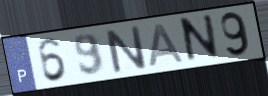6: (37, 36, 68, 85)
9: (219, 10, 252, 58), (72, 32, 106, 78)
A: (147, 22, 186, 69)
N: (102, 24, 150, 75), (180, 12, 222, 67)
